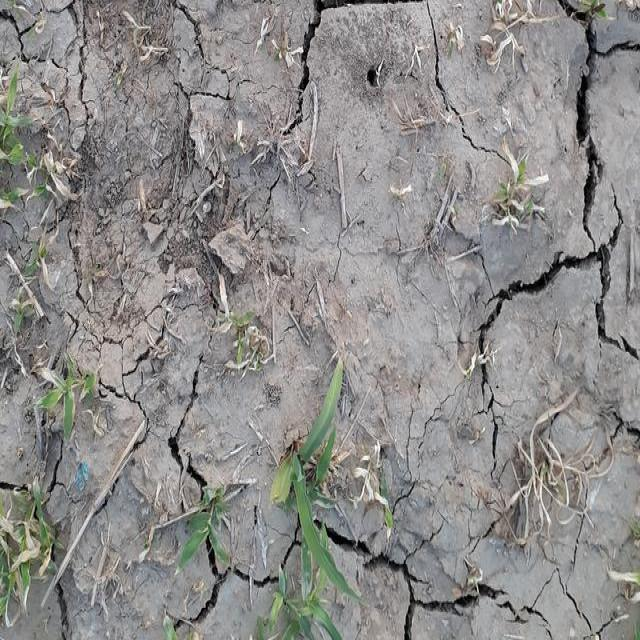weed: (0, 28, 88, 628), (256, 363, 378, 640)
